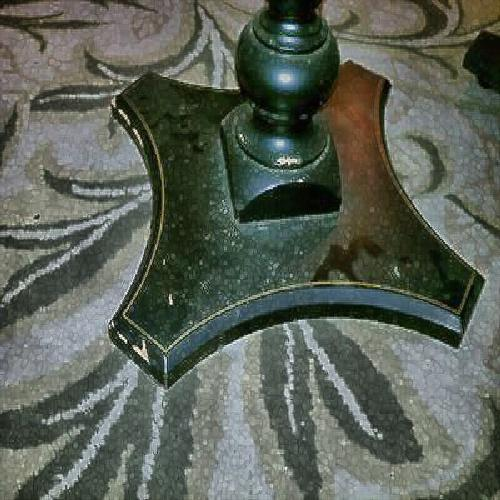table: (127, 48, 463, 355)
